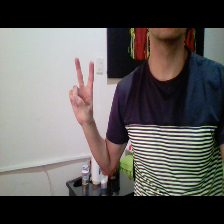KP: (64, 51, 100, 129)
